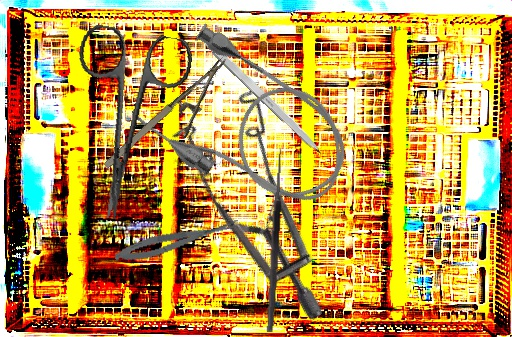Cannula: (123, 15, 371, 237)
Hook Surgical: (257, 147, 285, 333)
Iris Scissors: (51, 22, 196, 228)
Micro Scissor: (112, 215, 242, 267)
Needle Holder: (100, 56, 248, 189)
Scalpel Handle: (194, 28, 326, 157)
Speculum: (131, 67, 405, 323)
